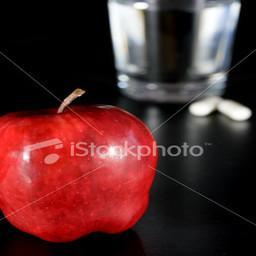apple: (0, 106, 158, 244)
